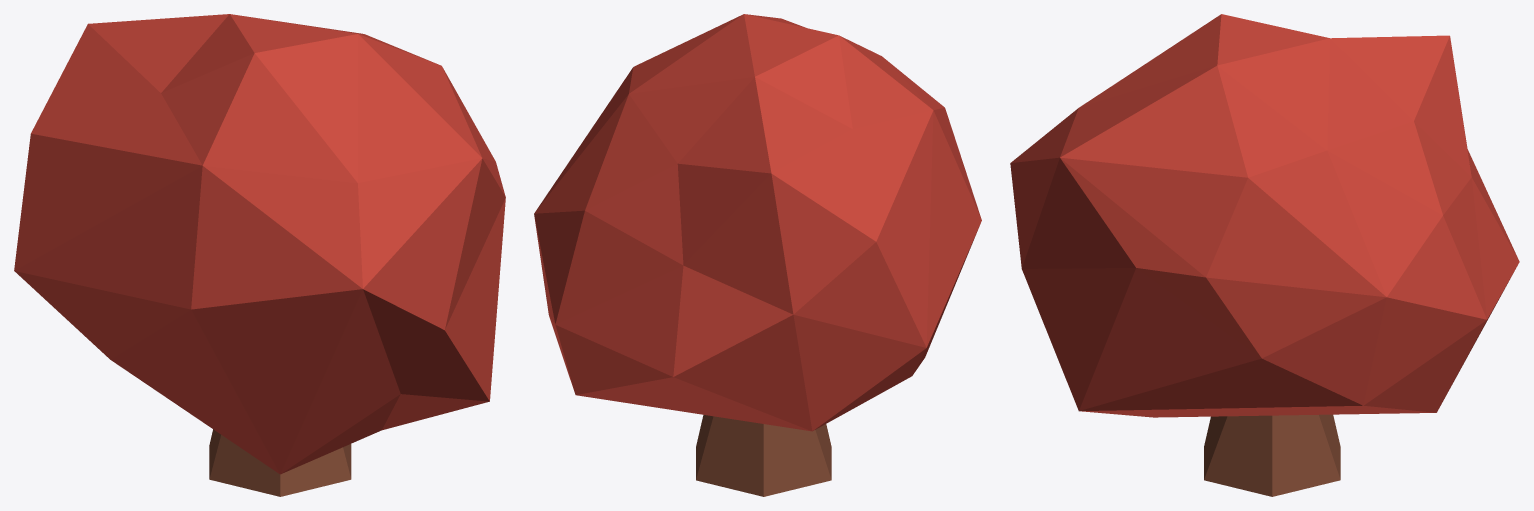
Rendered from Bush_1_summer_red_mat.fbx.
The picture shows the model from 3 angles, left to right: view 1: azimuth 30°, elevation 25°; view 2: azimuth 150°, elevation 25°; view 3: azimuth 270°, elevation 25°; orthographic projection. The views are drawn at different scales.
Visible parts, largest first — view 1: Bush_1_summer_red_mat; view 2: Bush_1_summer_red_mat; view 3: Bush_1_summer_red_mat.
Boxes of the visible parts, x1,y1,x2,y2 form: Bush_1_summer_red_mat: (14, 14, 505, 496); Bush_1_summer_red_mat: (534, 14, 981, 496); Bush_1_summer_red_mat: (1010, 14, 1519, 496).
Size of the model in its own units: 40.88 by 42.19 by 45.82.
